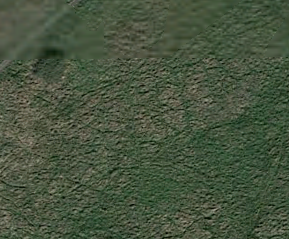tree: (28, 53, 71, 84)
